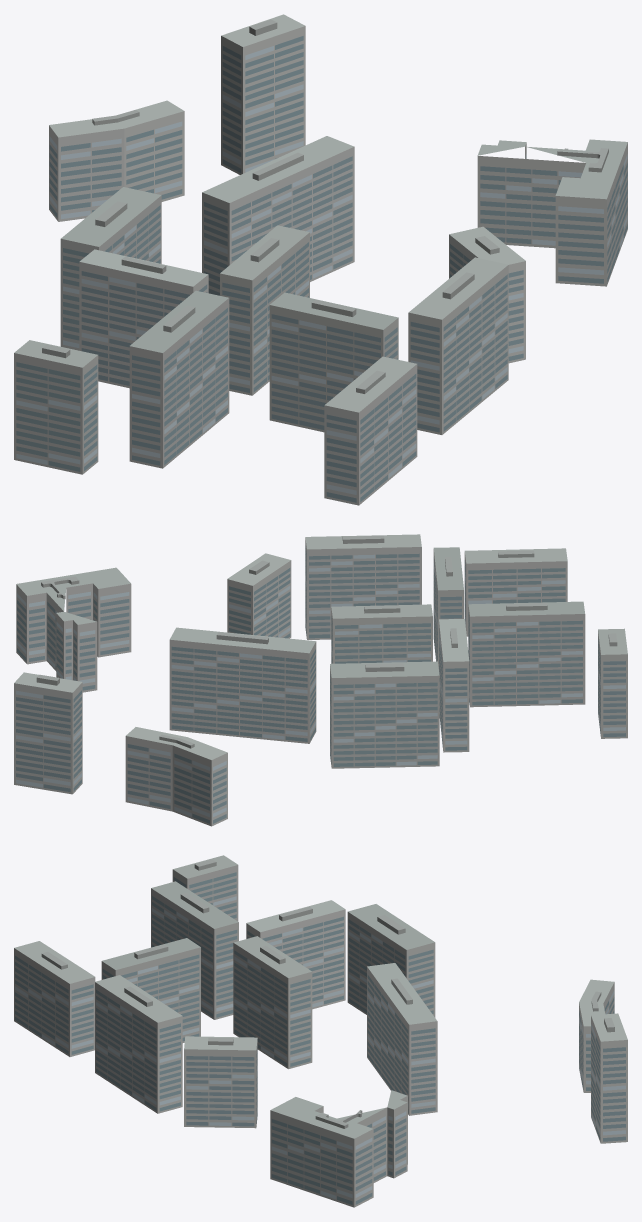
File: apt-a12012101.glb
3 renders of one model, top to bottom at view 1: azimuth 30°, elevation 25°; view 2: azimuth 150°, elevation 25°; view 3: azimuth 270°, elevation 25°, orthographic. The views are drawn at different scales.
Visible parts, largest first — view 1: apt-a12012101; view 2: apt-a12012101; view 3: apt-a12012101.
Part boxes in pixels (x1,y1,x2,y2): apt-a12012101: (14, 14, 627, 505); apt-a12012101: (14, 534, 627, 826); apt-a12012101: (14, 855, 627, 1207).
Bounding box in the file's own units: 247 × 46 × 239.
